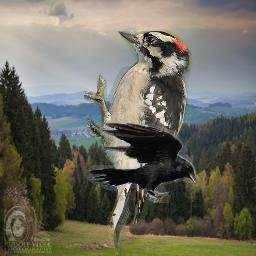Crow: (85, 121, 198, 203)
Woodpecker: (84, 31, 194, 255)
